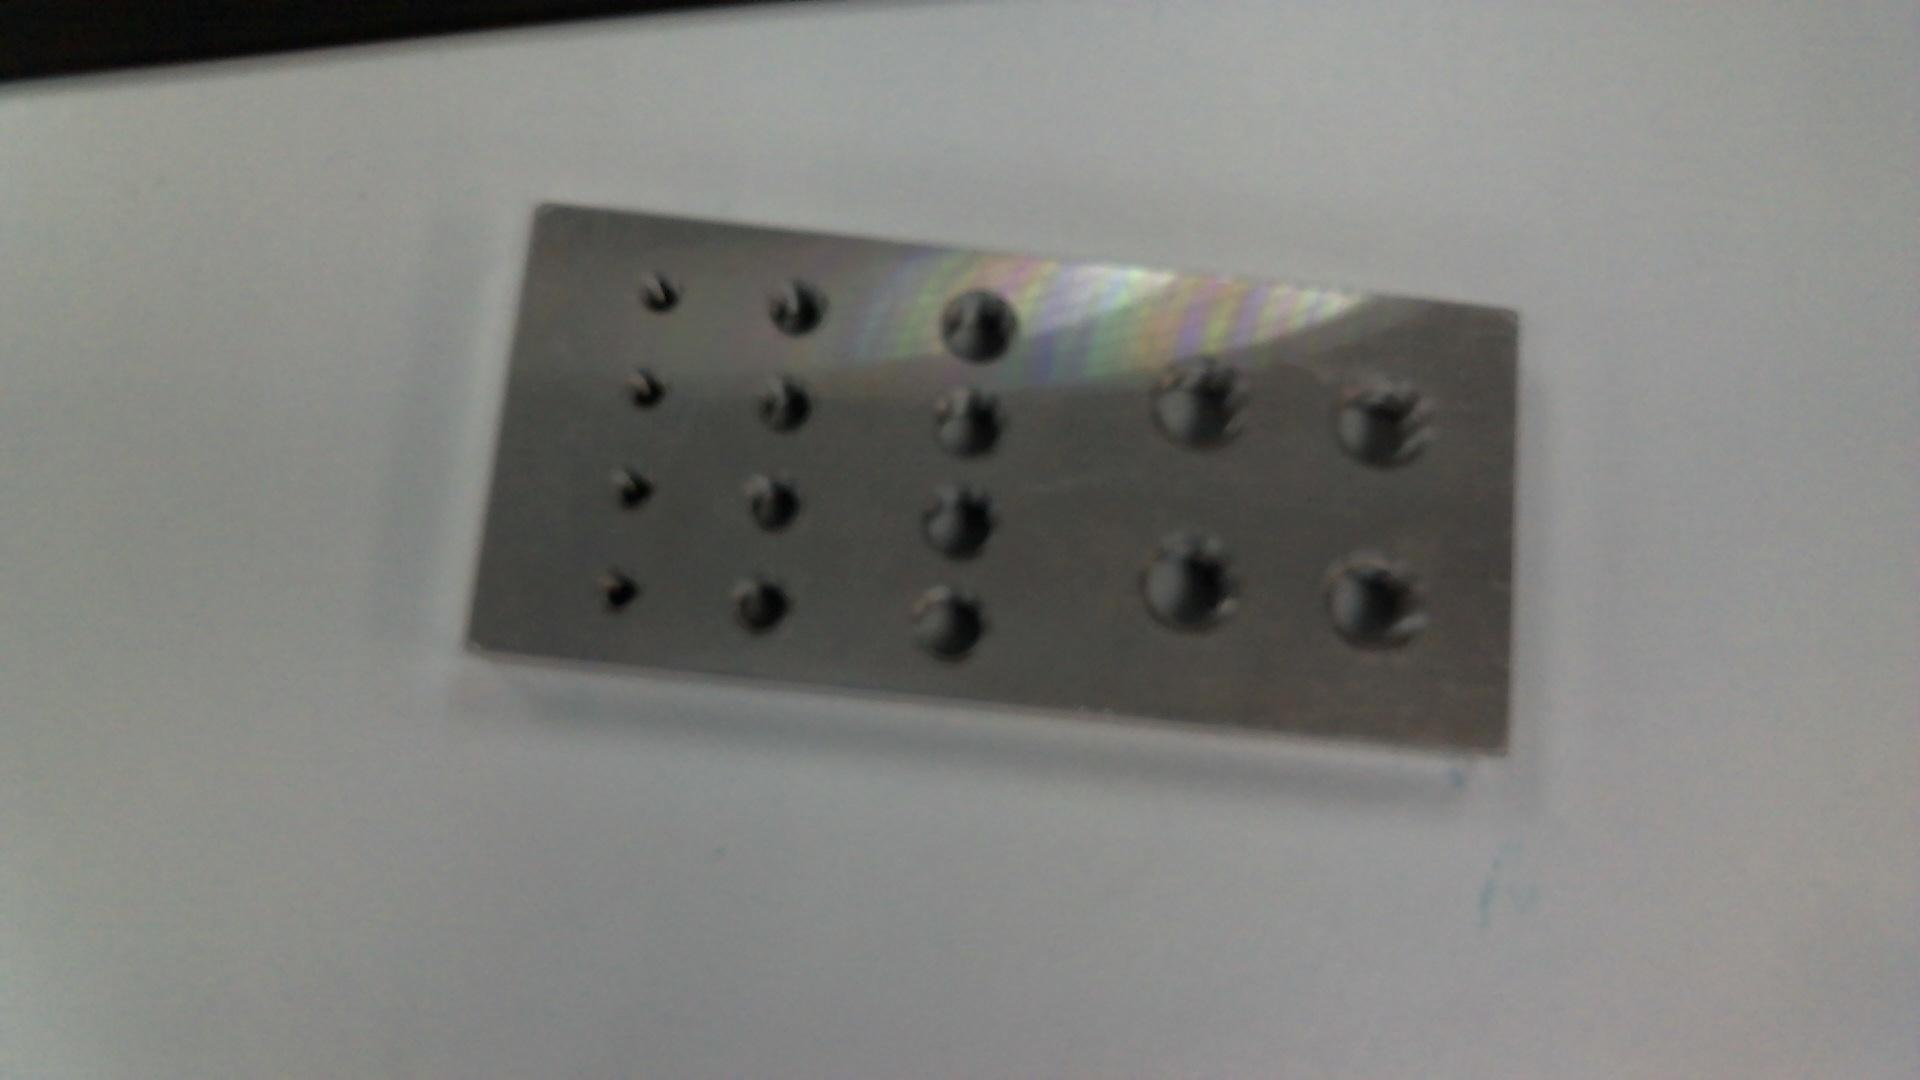hole: (1129, 526, 1247, 644), (1316, 373, 1444, 481), (1153, 347, 1262, 467), (1316, 543, 1419, 662), (939, 284, 1030, 365), (906, 589, 989, 673), (924, 390, 1009, 463), (924, 487, 1000, 567), (745, 371, 819, 443), (771, 281, 837, 352), (737, 472, 803, 538), (589, 567, 649, 624), (628, 270, 683, 327), (737, 579, 790, 638), (621, 361, 670, 418), (605, 468, 654, 513)
